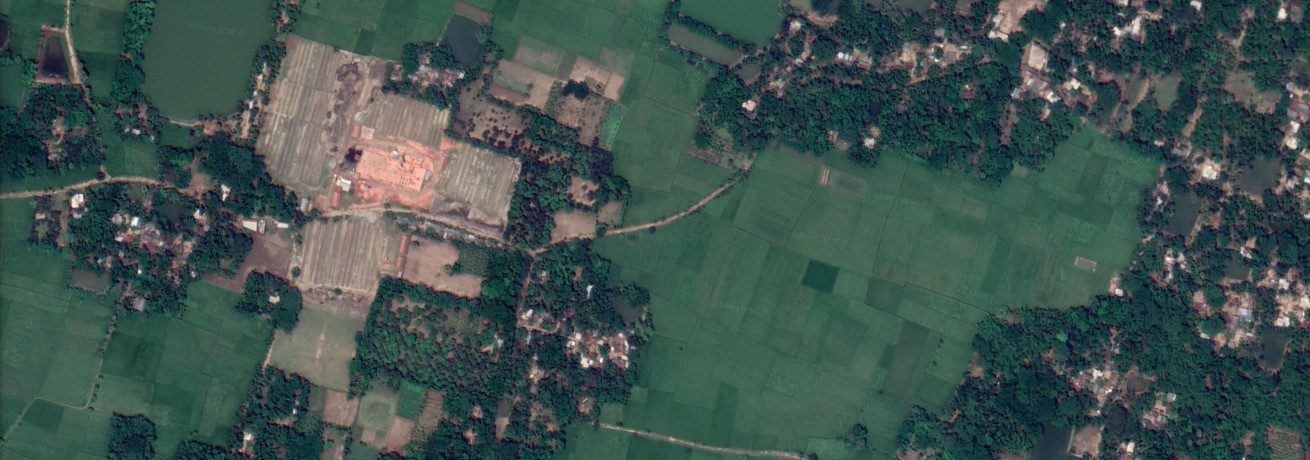kiln: (353, 133, 454, 208)
